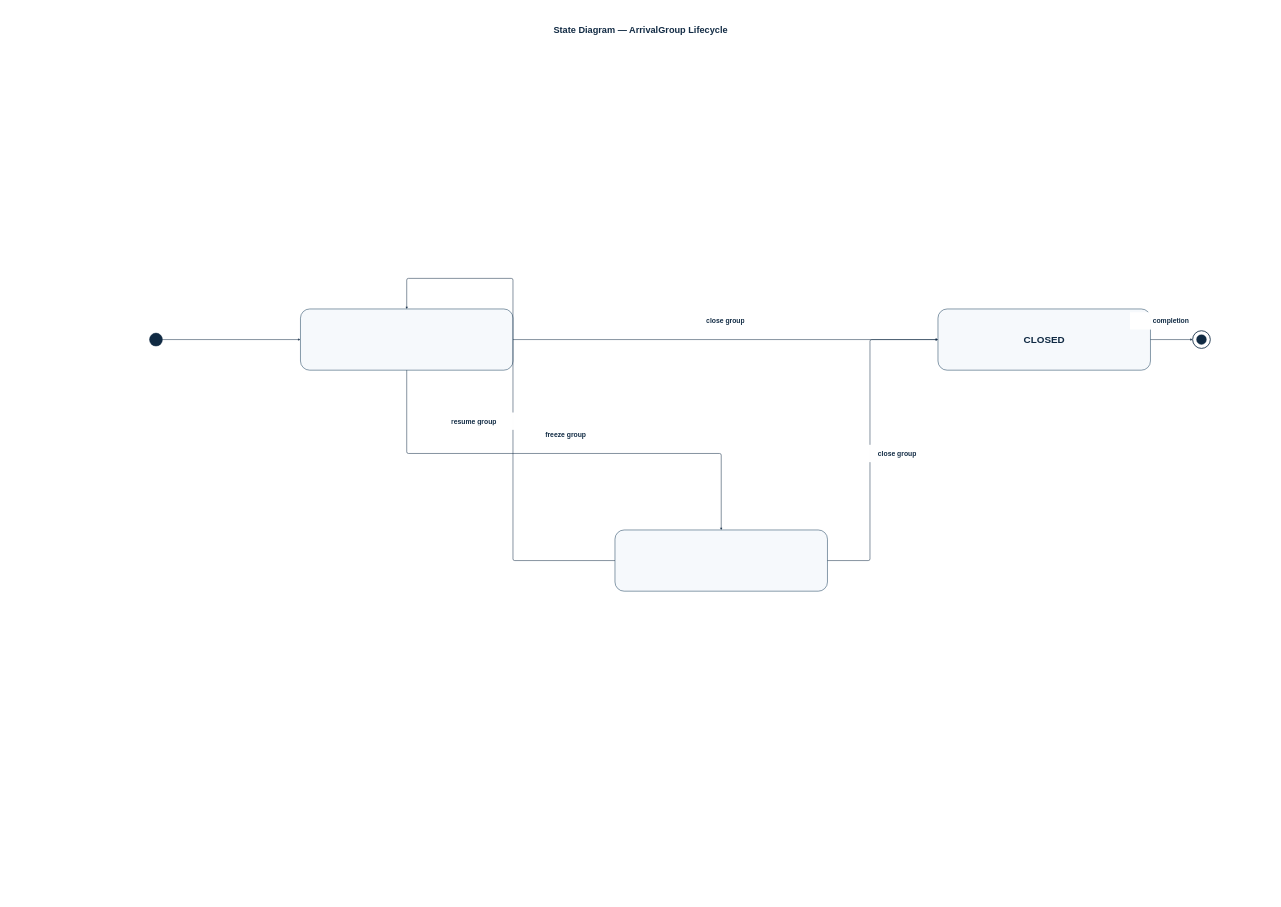
The diagram is 1281 pixels wide and 907 high, and some of its shapes have lost their labels. The centre of each missing label's shape, as x and y in pixels:
FROZEN: (x=721, y=560)
OPEN: (x=406, y=339)
